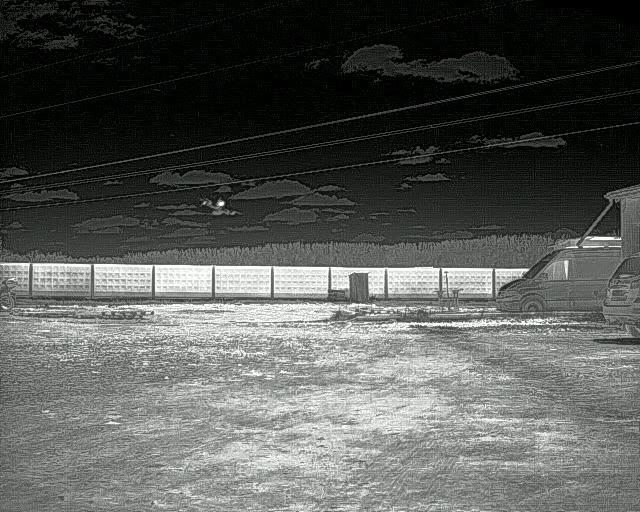drone-thermal: (198, 195, 243, 218)
